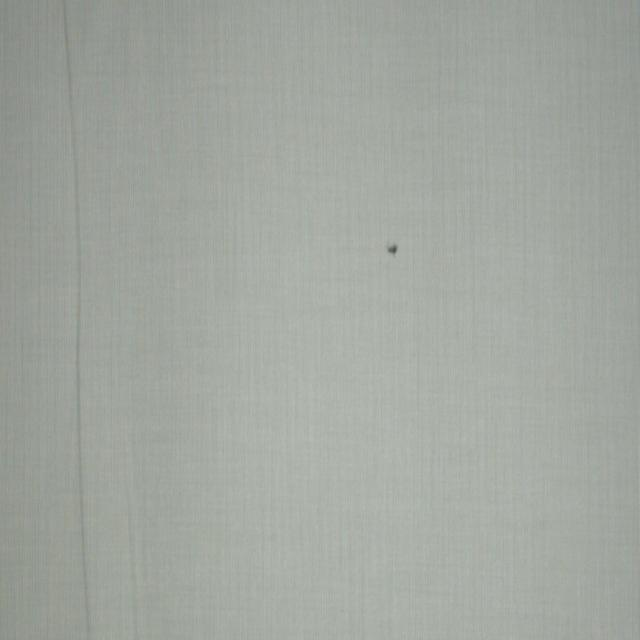dirty: (387, 240, 399, 256)
